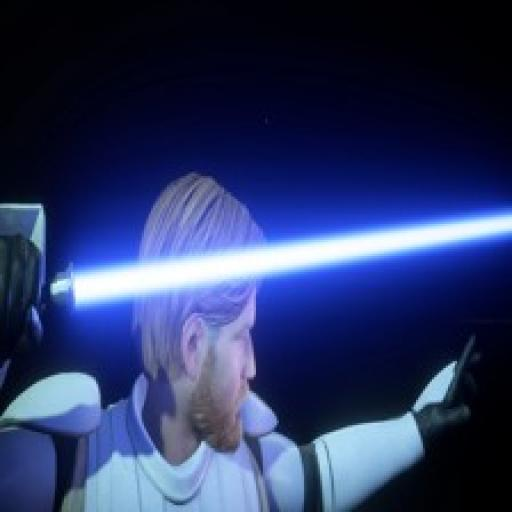lightsaber: (25, 211, 512, 291)
